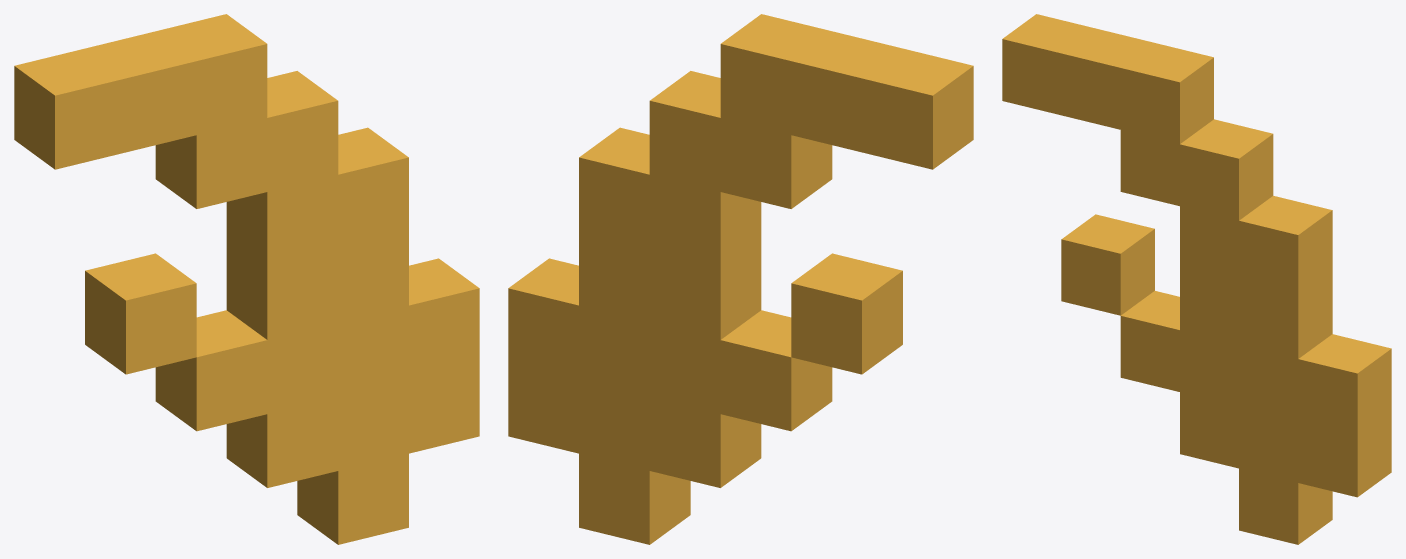
The model's file is Gauntlet-Orange.vox.obj.
The picture shows the model from 3 angles, left to right: view 1: azimuth 30°, elevation 25°; view 2: azimuth 150°, elevation 25°; view 3: azimuth 330°, elevation 25°; orthographic projection. The views are drawn at different scales.
Size of the model in its own units: 0.6 by 0.7 by 0.1.
Materials: 1 (1 with a texture image).
